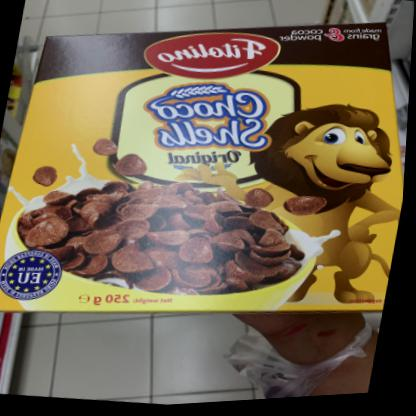cereal box: (0, 10, 414, 355)
